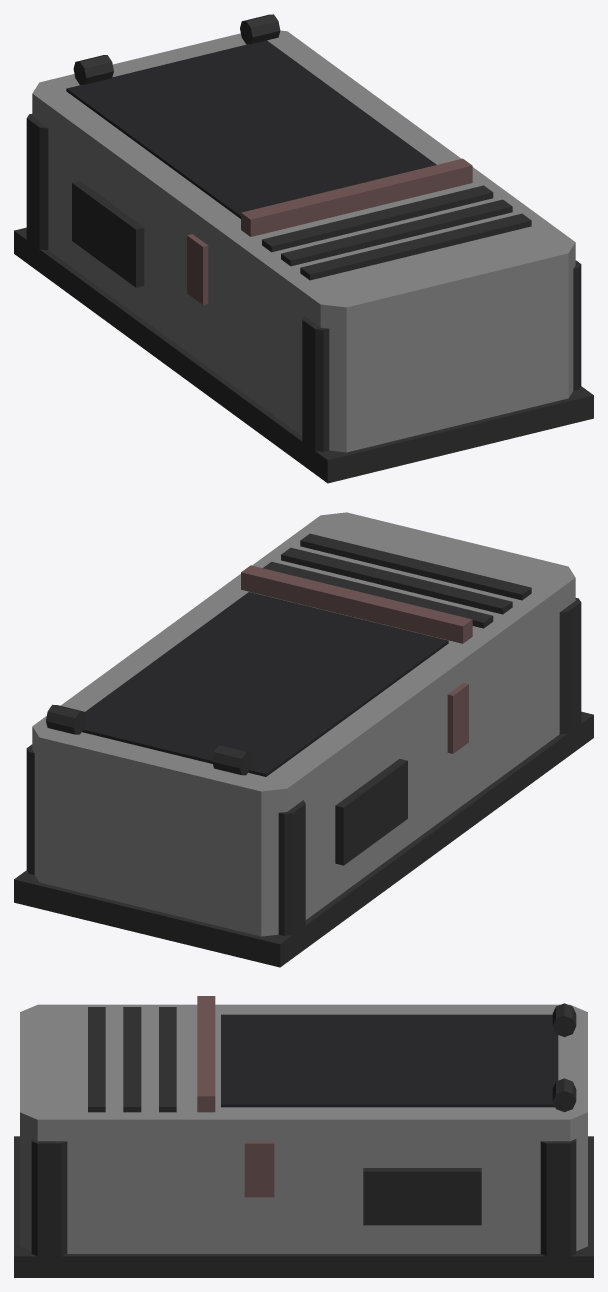
File: ancient_hermetic_crate_open.obj
3 renders of one model, top to bottom at view 1: azimuth 30°, elevation 25°; view 2: azimuth 150°, elevation 25°; view 3: azimuth 270°, elevation 25°, orthographic. The views are drawn at different scales.
Visible parts, largest first — view 1: ancient_hermetic_crate_open; view 2: ancient_hermetic_crate_open; view 3: ancient_hermetic_crate_open.
Part boxes in pixels (x1=…): ancient_hermetic_crate_open: x1=14, y1=14, x2=593, y2=483; ancient_hermetic_crate_open: x1=14, y1=512, x2=593, y2=967; ancient_hermetic_crate_open: x1=14, y1=996, x2=593, y2=1277.
Size of the model in its own units: 0.98 by 0.66 by 1.96.
